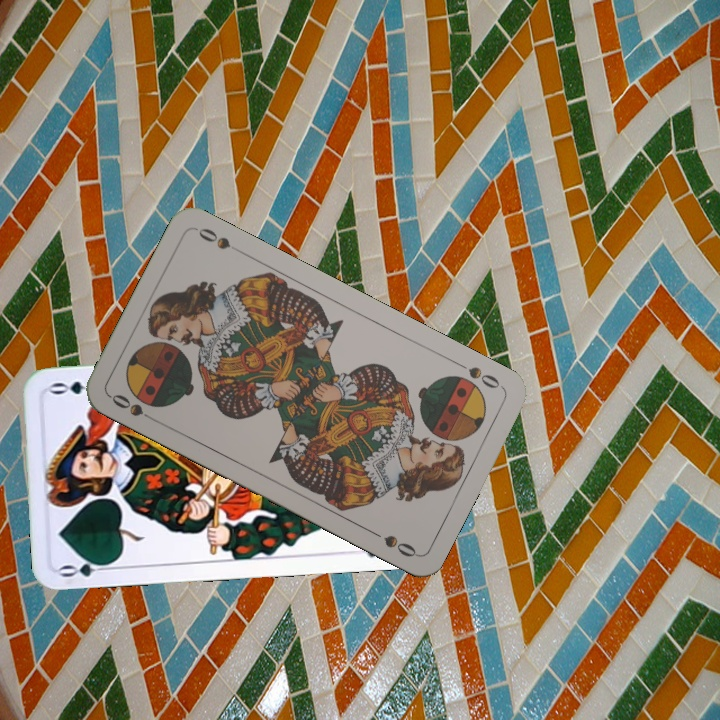GO: (56, 553, 116, 580)
SO: (106, 389, 161, 426), (451, 357, 505, 392)
